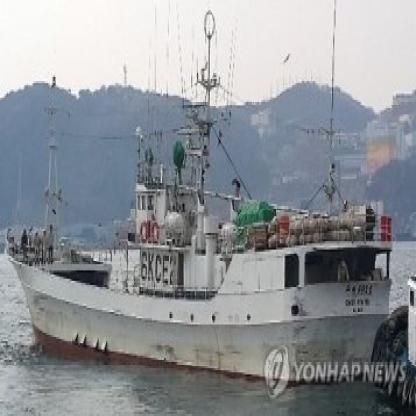fish-b: (0, 79, 415, 399)
